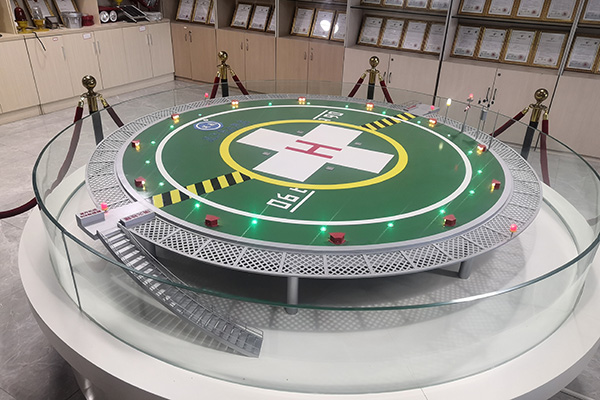H: (286, 140, 343, 160)
